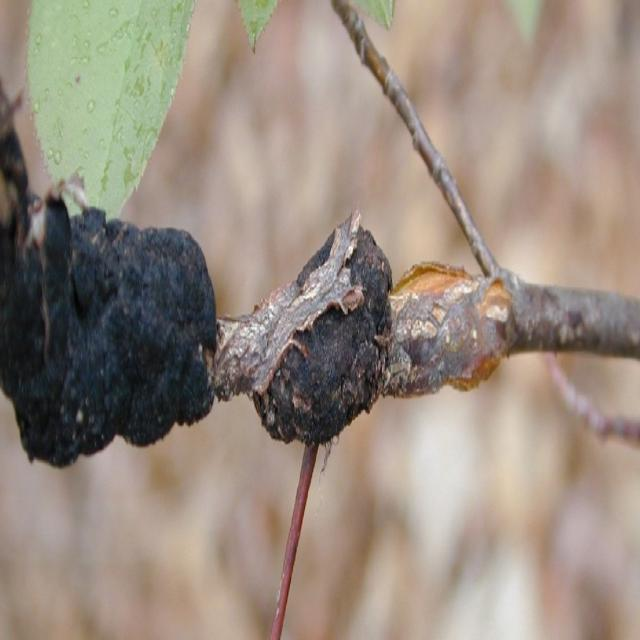Black_knot: (1, 85, 219, 470), (214, 207, 394, 451)
